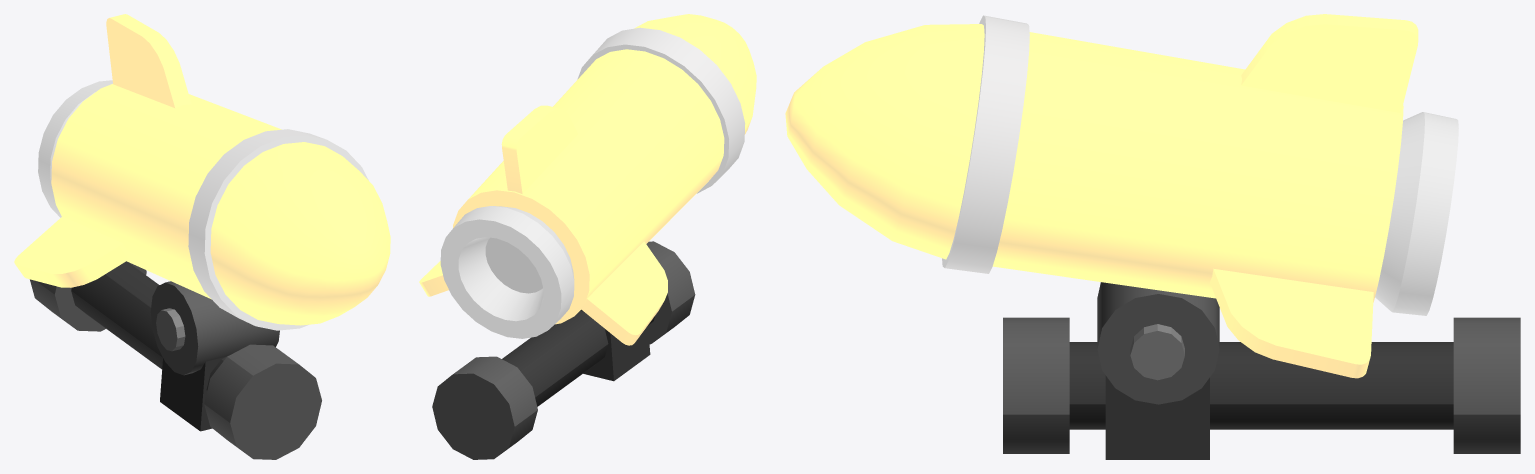
The model's file is yellow.glb.
3 renders of one model, left to right at view 1: azimuth 30°, elevation 25°; view 2: azimuth 150°, elevation 25°; view 3: azimuth 270°, elevation 25°, orthographic. The views are drawn at different scales.
Visible parts, largest first — view 1: rocket, yellow; view 2: rocket, yellow; view 3: rocket, yellow.
Boxes of the visible parts, x1,y1,x2,y2 form: rocket: (14, 14, 390, 330); yellow: (30, 261, 321, 459); rocket: (419, 14, 756, 345); yellow: (432, 241, 695, 459); rocket: (785, 14, 1458, 378); yellow: (1003, 282, 1520, 459).
Bounding box in the file's own units: 0.7138 × 0.9291 × 1.44.
2 materials, 2 textured.
